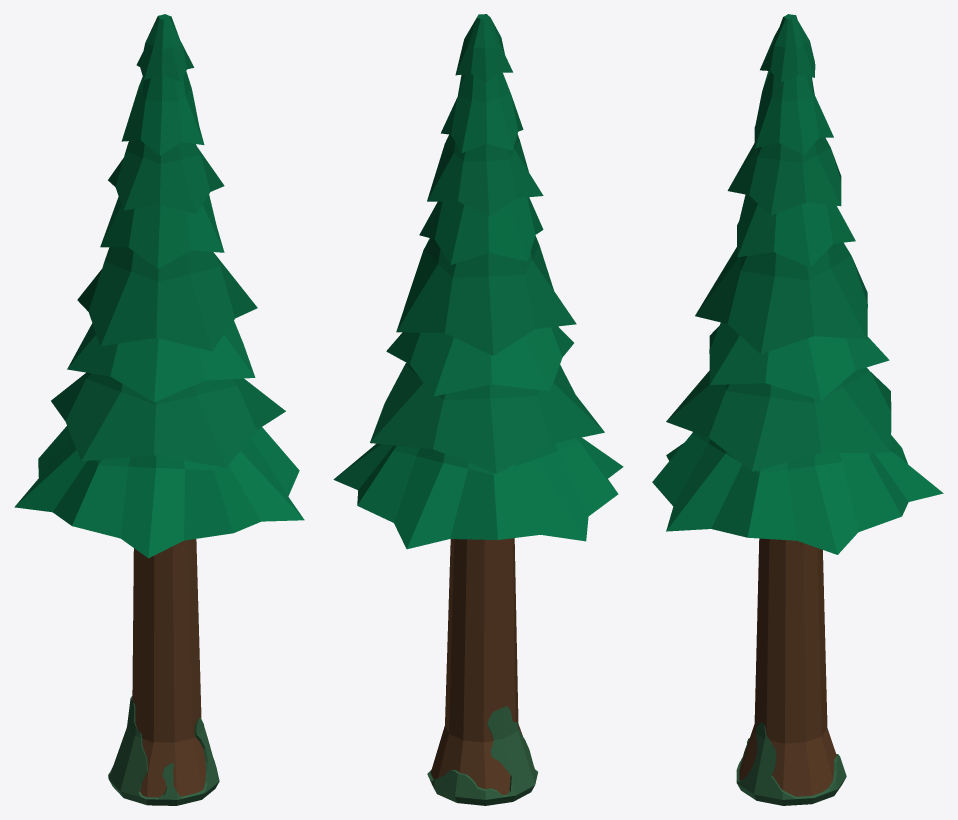
File: Tree4.fbx
3 views of the same model, side by side, from view 1: azimuth 30°, elevation 25°; view 2: azimuth 150°, elevation 25°; view 3: azimuth 270°, elevation 25° (orthographic).
Visible parts, largest first — view 1: Cylinder.003; view 2: Cylinder.003; view 3: Cylinder.003.
Boxes of the visible parts, x1,y1,x2,y2 form: Cylinder.003: (14,14,304,805); Cylinder.003: (333,14,623,805); Cylinder.003: (652,14,943,805).
Bounding box in the file's own units: 550 × 1604 × 549.
